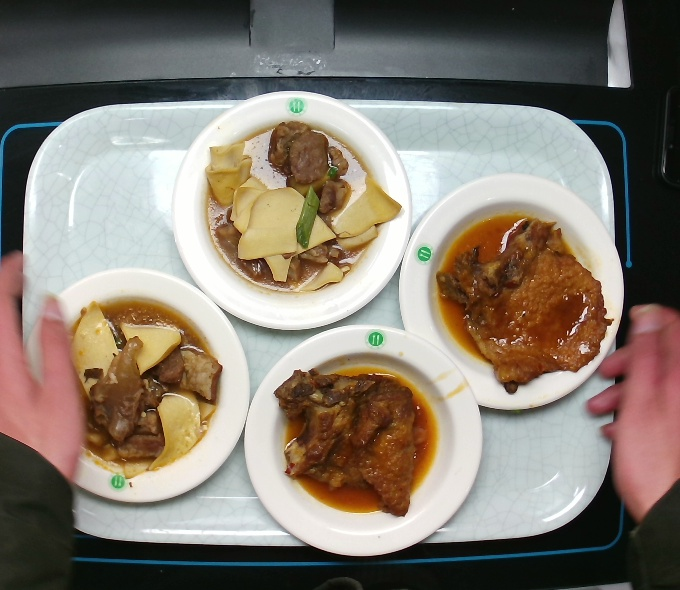wcq-DaPai: (443, 217, 608, 395), (277, 362, 425, 516)
wcq-QianZhangNiuRou: (205, 109, 387, 296), (41, 289, 223, 476)
